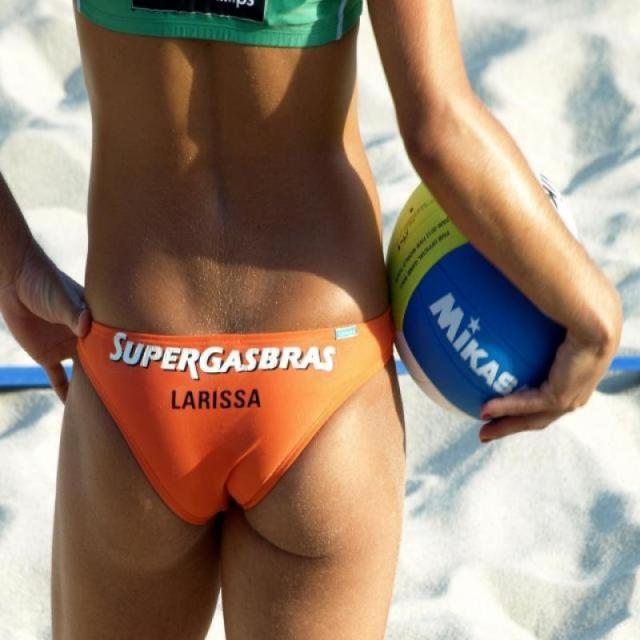volleyball: (385, 160, 579, 424)
